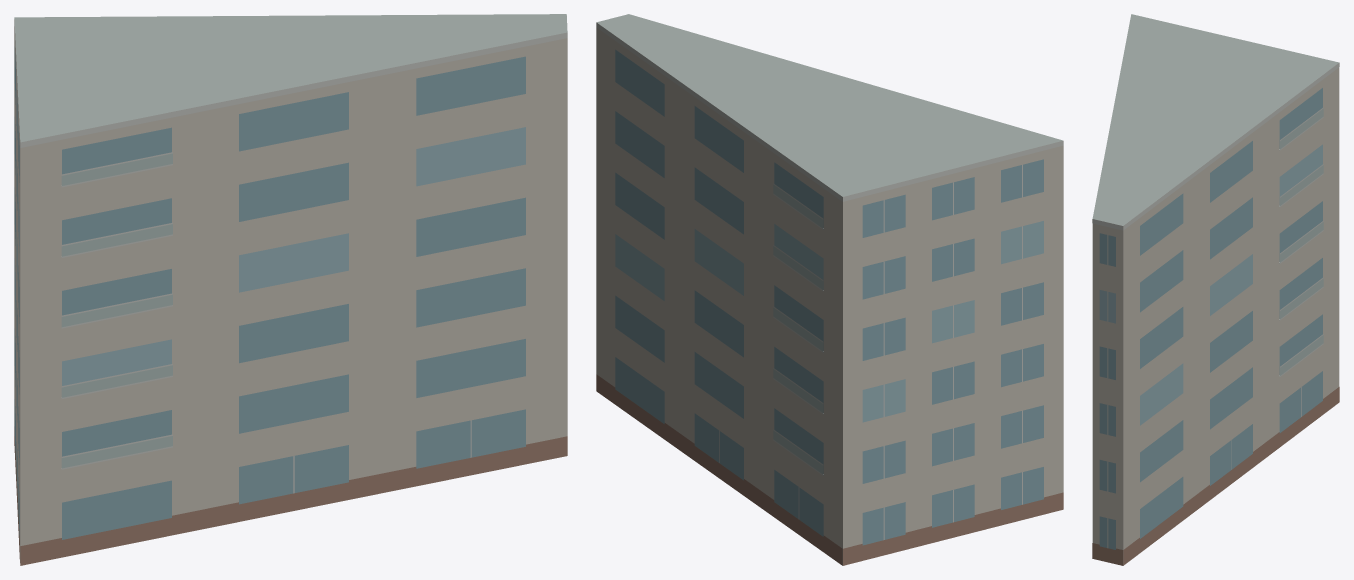
The model's file is survey-upis-32834658.glb.
3 views of the same model, side by side, from view 1: azimuth 30°, elevation 25°; view 2: azimuth 150°, elevation 25°; view 3: azimuth 270°, elevation 25° (orthographic). The views are drawn at different scales.
Visible parts, largest first — view 1: survey-upis-32834658.tmp; view 2: survey-upis-32834658.tmp; view 3: survey-upis-32834658.tmp.
Part boxes in pixels (bbox=[...]): survey-upis-32834658.tmp: bbox=[14, 14, 567, 565]; survey-upis-32834658.tmp: bbox=[596, 14, 1063, 565]; survey-upis-32834658.tmp: bbox=[1092, 14, 1339, 565].
Size of the model in its own units: 24.5 by 18.3 by 12.06.
